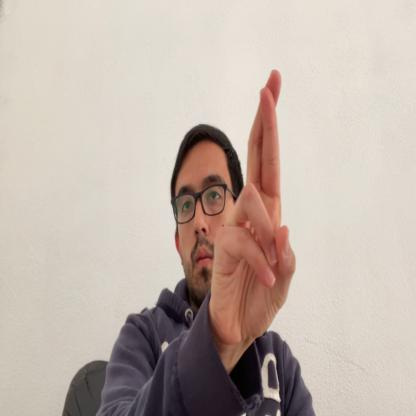R: (209, 66, 297, 347)
